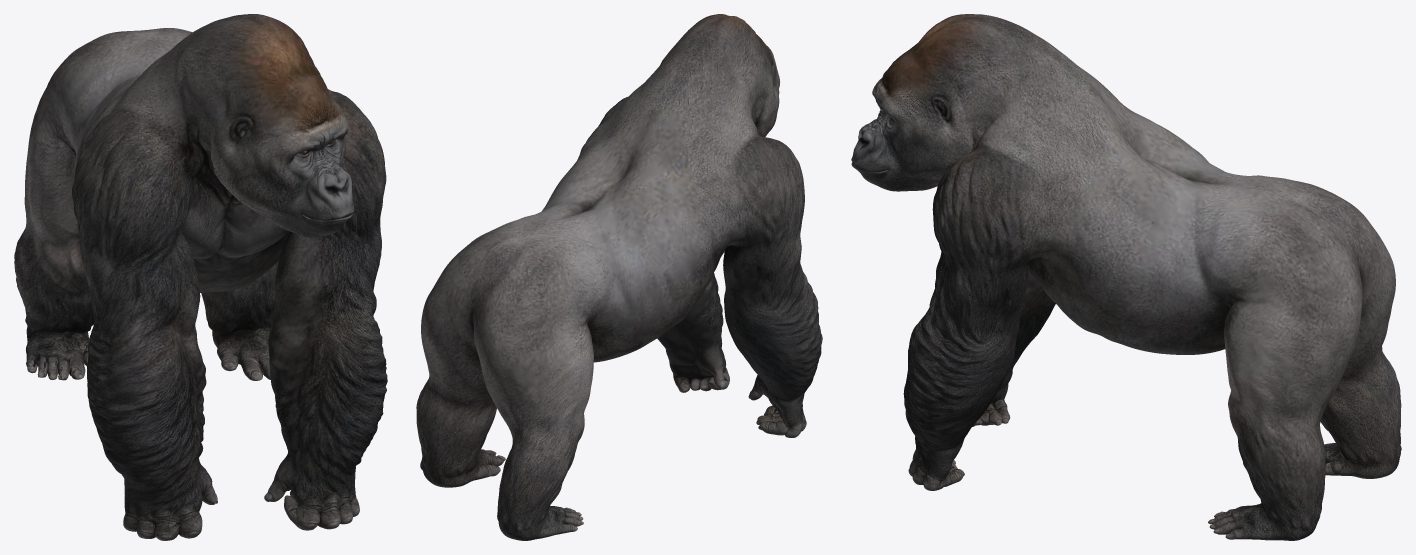
File: wild-gorilla.glb
3 views of the same model, side by side, from view 1: azimuth 30°, elevation 25°; view 2: azimuth 150°, elevation 25°; view 3: azimuth 270°, elevation 25° (orthographic). The views are drawn at different scales.
Parts seen in each view (by area): view 1: gorilla; view 2: gorilla; view 3: gorilla.
Part boxes in pixels (bbox=[...]): gorilla: bbox=[14, 14, 387, 540]; gorilla: bbox=[416, 14, 822, 540]; gorilla: bbox=[851, 14, 1401, 540].
Size of the model in its own units: 1.08 by 1.5 by 1.7.
Materials: 1 (1 with a texture image).
